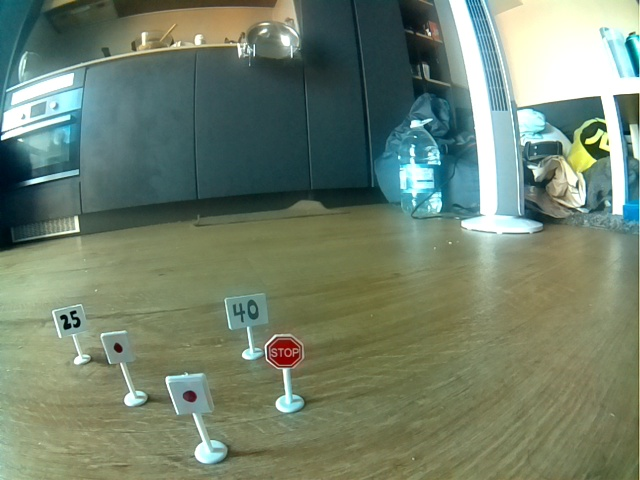red light: (169, 377, 208, 414), (103, 334, 131, 363)
speed 25: (56, 307, 85, 334)
speed 40: (229, 297, 263, 325)
stop: (267, 335, 304, 368)
